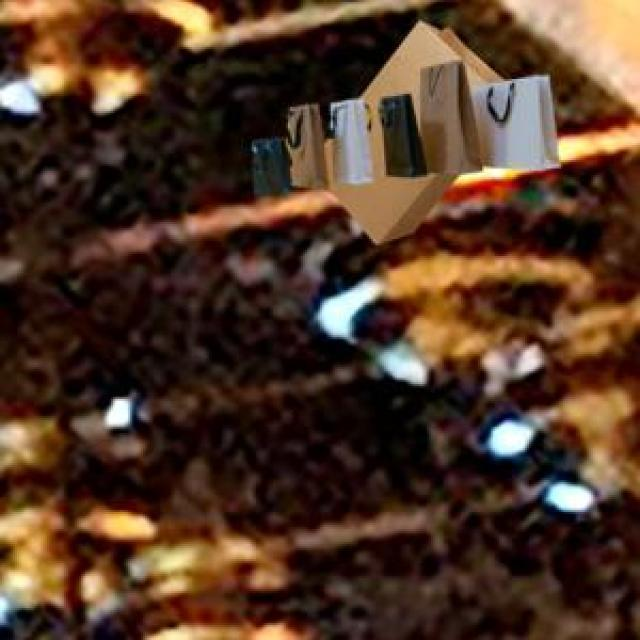paper: (248, 58, 556, 190), (320, 17, 499, 239)
